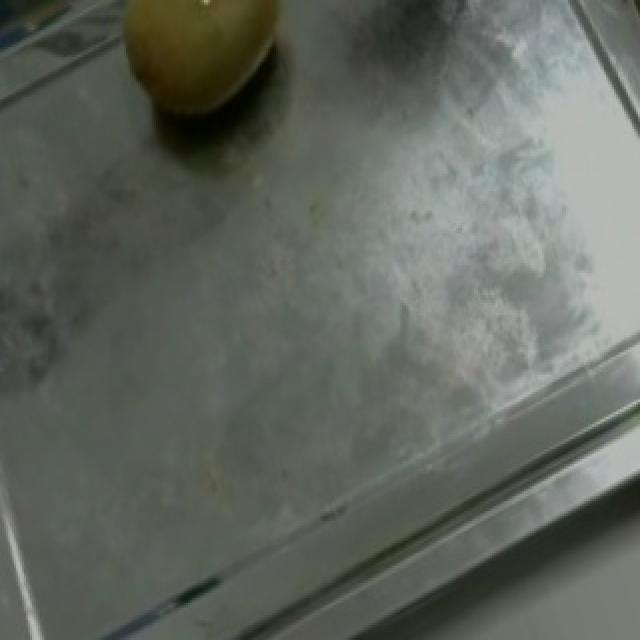Fruit: (86, 0, 322, 161)
